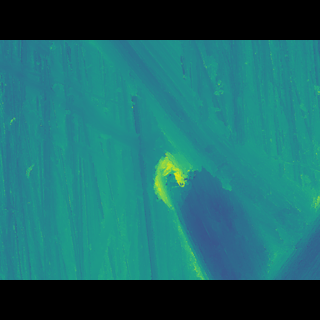Loch: (93, 69, 319, 250), (145, 148, 206, 198)
